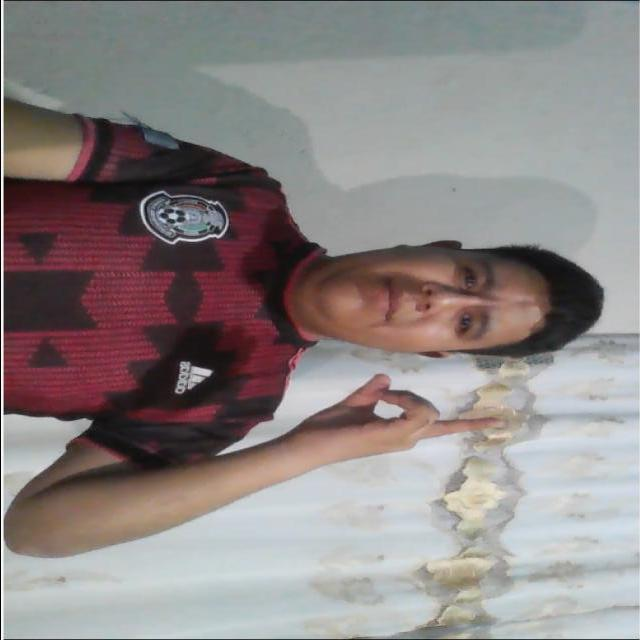D: (314, 364, 530, 475)
